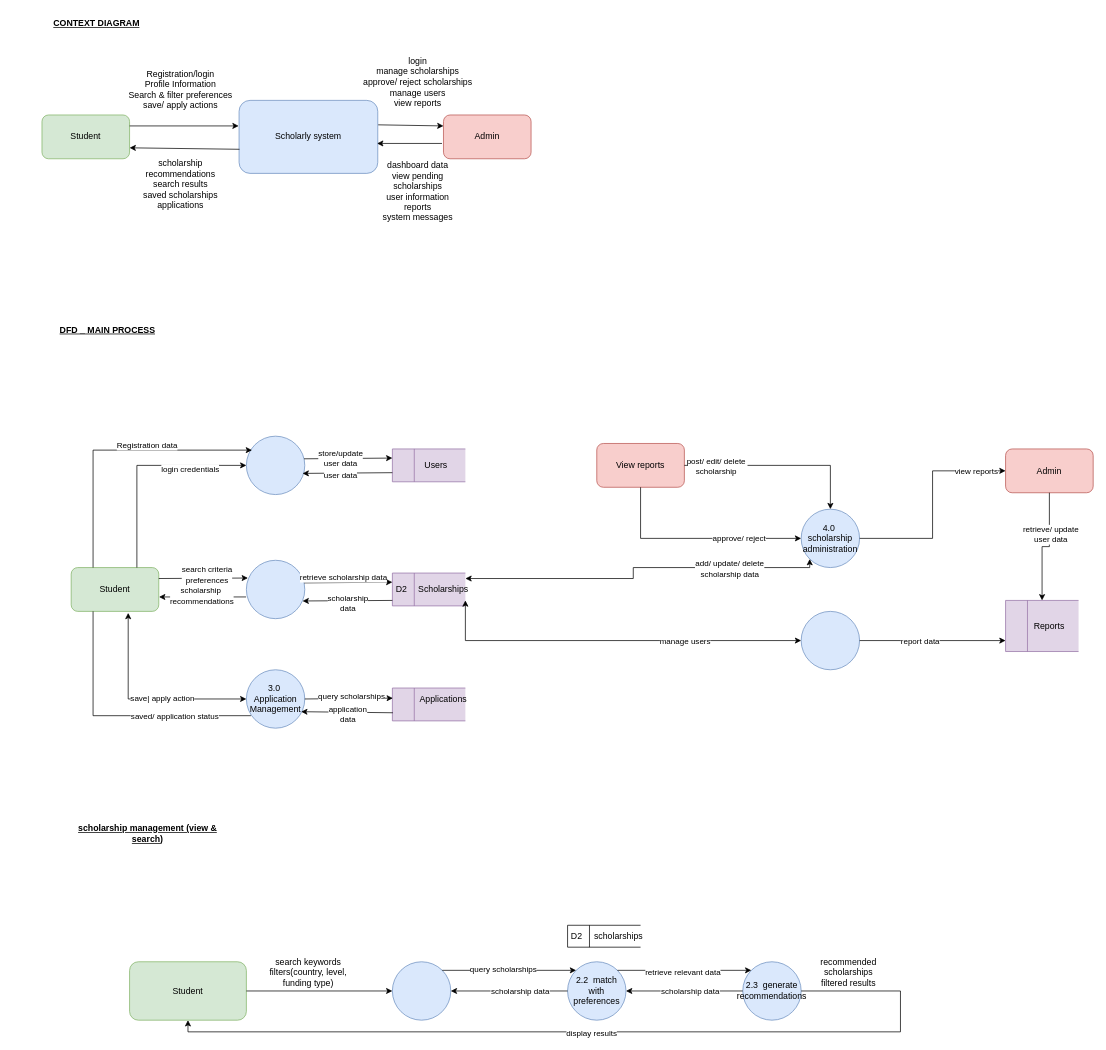
The diagram is 1106 pixels wide and 1050 high, and some of its shapes have lost their labels. The shapes that lost their labels are listed below. From the top down, each one's box as (x1, y1, x2, y2) in pixels, then its label:
(246, 435, 305, 495): 1.0 User Management
(392, 448, 465, 482): D1
(246, 560, 305, 619): 2.0 Scholarship Management(view &search)
(800, 611, 860, 670): 5.0 reporting
(1005, 600, 1079, 652): D4
(392, 687, 465, 721): D3
(392, 961, 451, 1020): 2.1 process search request
